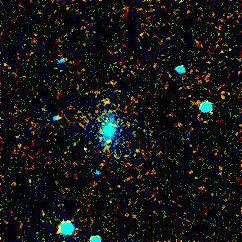star: (94, 128, 124, 158)
